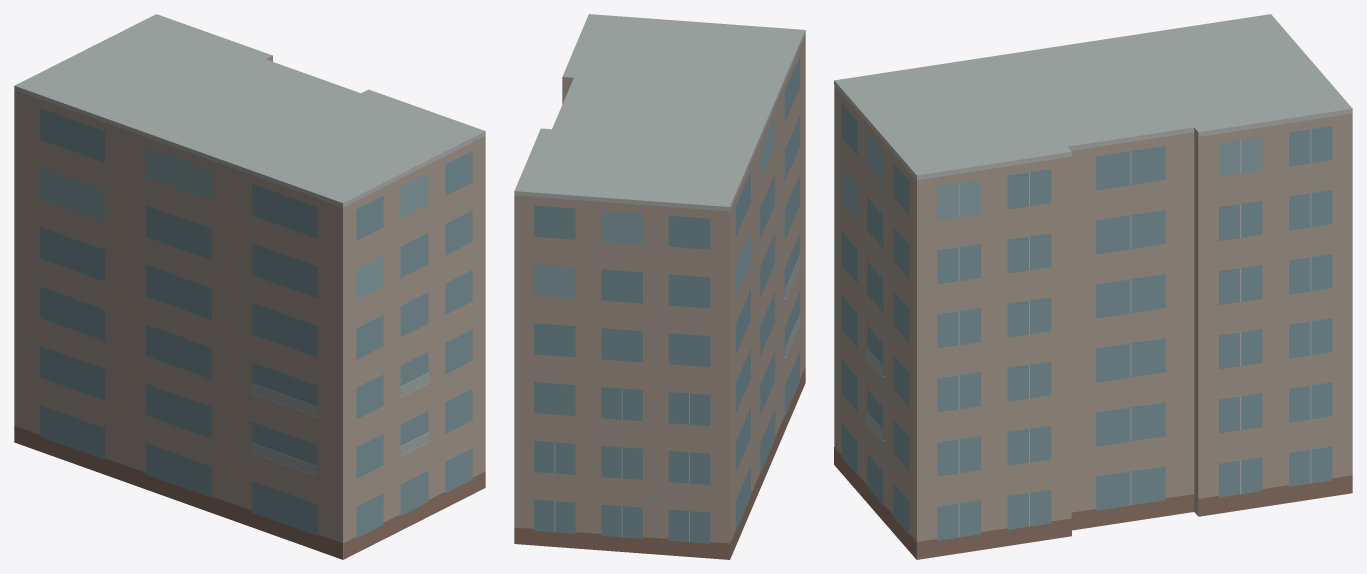
The model's file is survey-upis-33007123.glb.
3 renders of one model, left to right at view 1: azimuth 30°, elevation 25°; view 2: azimuth 150°, elevation 25°; view 3: azimuth 270°, elevation 25°, orthographic. The views are drawn at different scales.
Parts seen in each view (by area): view 1: survey-upis-33007123.tmp; view 2: survey-upis-33007123.tmp; view 3: survey-upis-33007123.tmp.
Boxes of the visible parts, x1,y1,x2,y2 form: survey-upis-33007123.tmp: (14, 14, 485, 559); survey-upis-33007123.tmp: (514, 14, 805, 559); survey-upis-33007123.tmp: (834, 14, 1352, 559).
Size of the model in its own units: 17.75 by 19.7 by 24.09.
